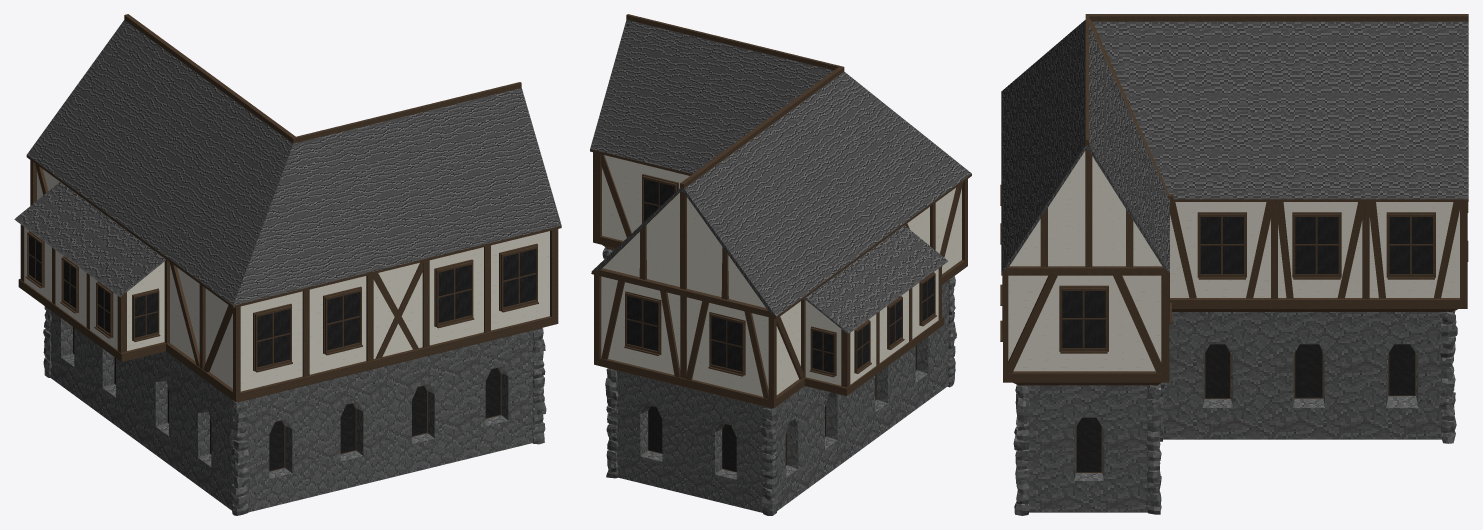
Rendered from MedievalHouse01.fbx.
3 views of the same model, side by side, from view 1: azimuth 30°, elevation 25°; view 2: azimuth 150°, elevation 25°; view 3: azimuth 270°, elevation 25° (orthographic). The views are drawn at different scales.
Visible parts, largest first — view 1: Cube.005; view 2: Cube.005; view 3: Cube.005.
Part boxes in pixels (bbox=[...]): Cube.005: bbox=[14, 14, 561, 515]; Cube.005: bbox=[590, 14, 971, 515]; Cube.005: bbox=[1000, 14, 1468, 515].
Bounding box in the file's own units: 1043 × 898 × 1002.
